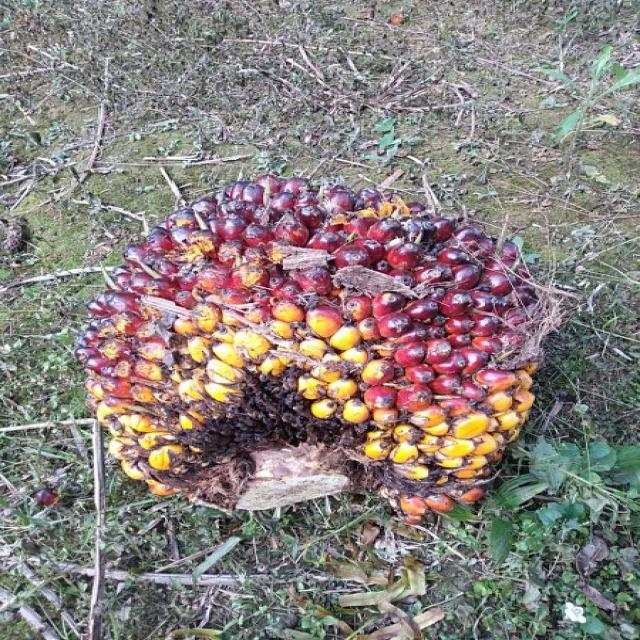fraksi 1: (48, 138, 594, 548)
